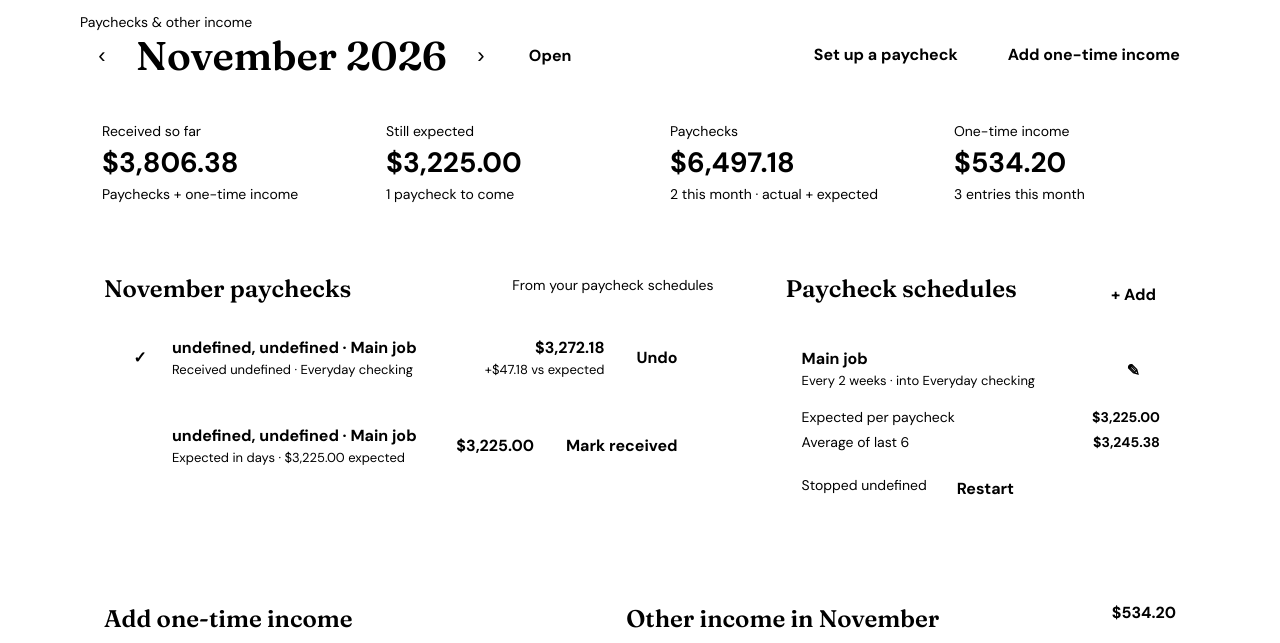
it: P2-09 paycheck schedules › reports a restart that fails
What coordinates should you click on to do the following:
click the button with aria-label "Restart Main job"
I would click on:
 (985, 489)
Its box is [937,465,1034,513].
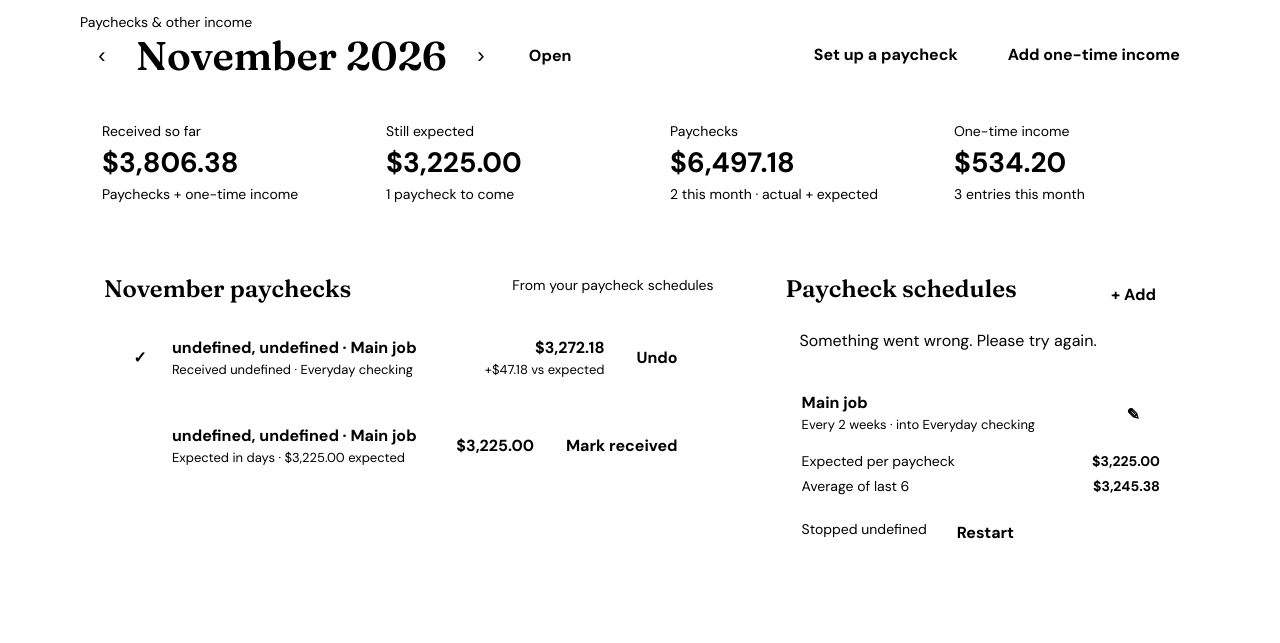
Expected: the message shows "Something went wrong", [800,330,1097,351]
